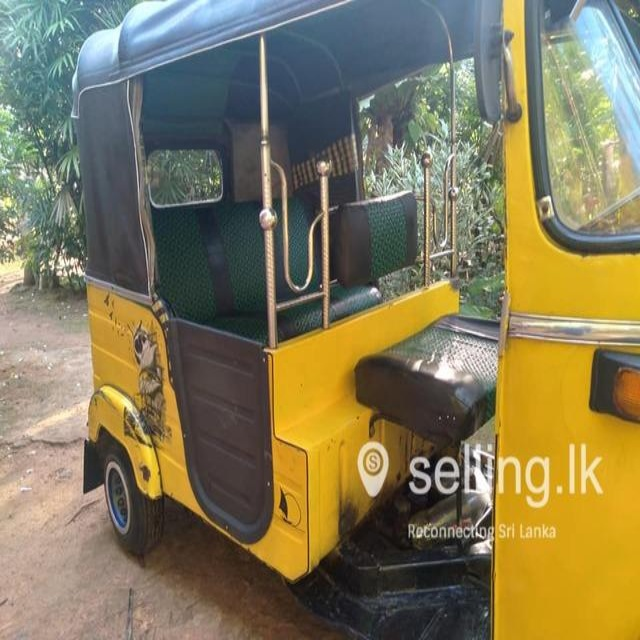Motorcycle: (71, 1, 640, 640)
